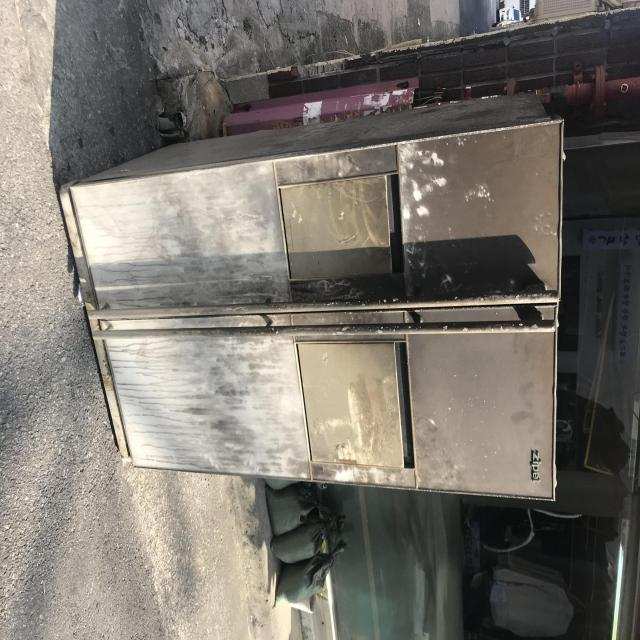refrigerator: (55, 84, 568, 518)
